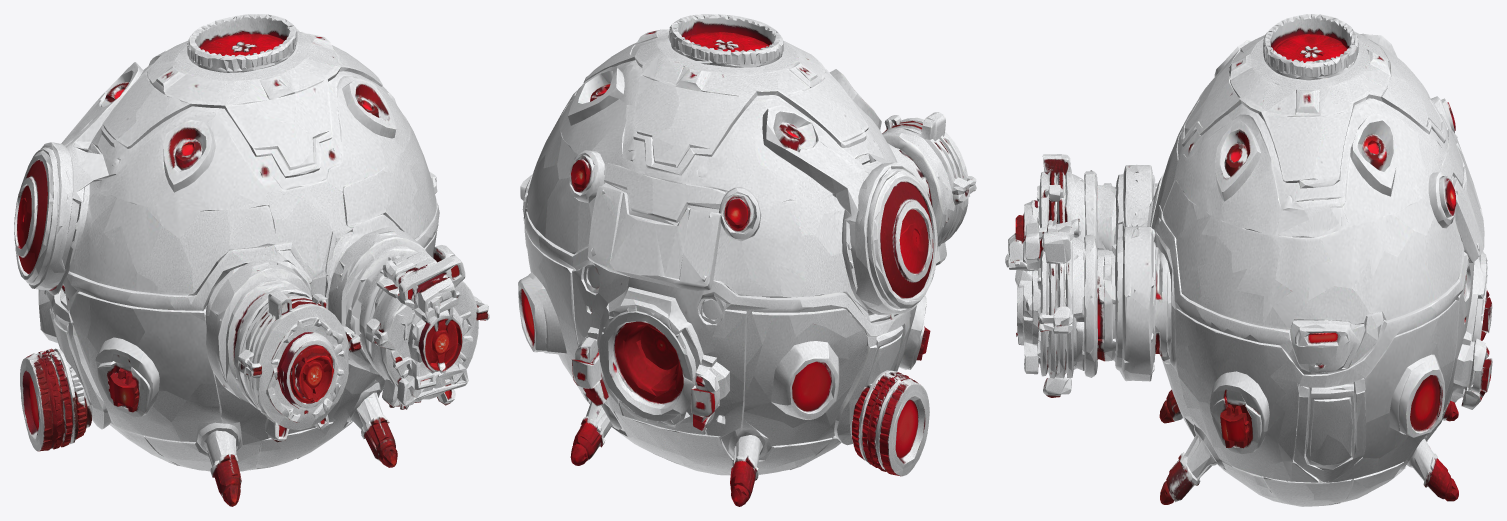
File: recon_drone_2.8m.glb
3 views of the same model, side by side, from view 1: azimuth 30°, elevation 25°; view 2: azimuth 150°, elevation 25°; view 3: azimuth 270°, elevation 25° (orthographic). The views are drawn at different scales.
Size of the model in its own units: 2.8 by 2.8 by 2.8.
1 material, 1 textured.
